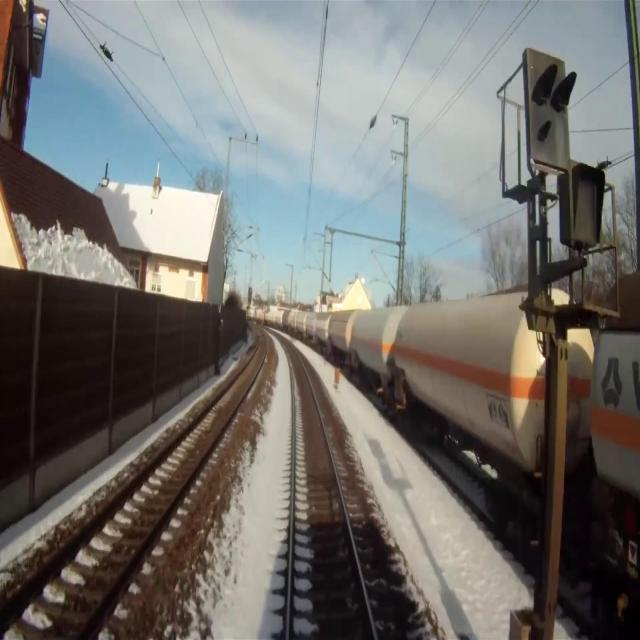rail-track: (0, 329, 265, 639), (282, 341, 373, 639)
